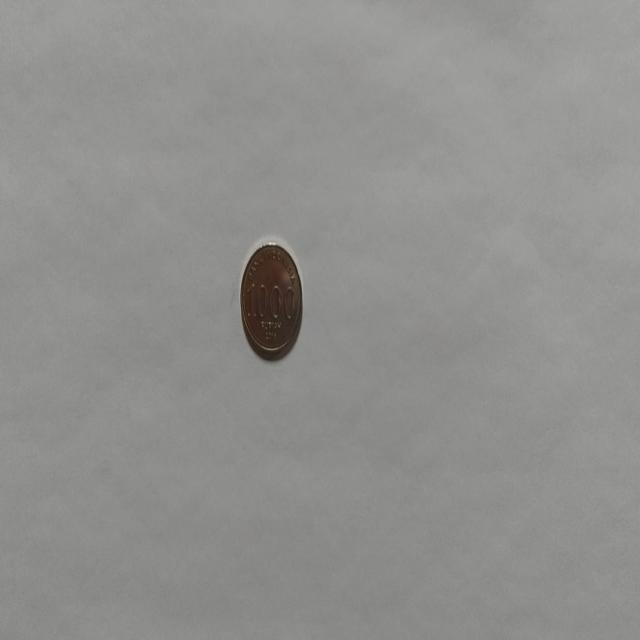seribu rupiah koin: (238, 238, 304, 361)
